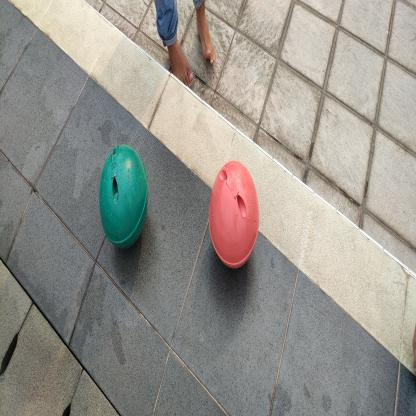green_buoy: (98, 139, 150, 252)
red_buoy: (207, 155, 261, 273)
